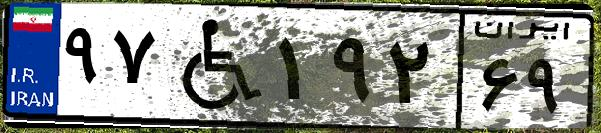1: (270, 28, 330, 110)
2: (385, 28, 445, 110)
6: (475, 38, 525, 113)
7: (110, 28, 158, 98)
9: (330, 28, 385, 110), (57, 26, 110, 100), (525, 38, 570, 115)
ژ (معلولین و جانبازان): (158, 12, 270, 120)
